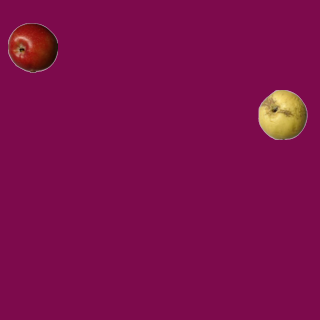Apple Braeburn: (7, 22, 57, 72)
Apple Golden 1: (257, 89, 307, 139)
